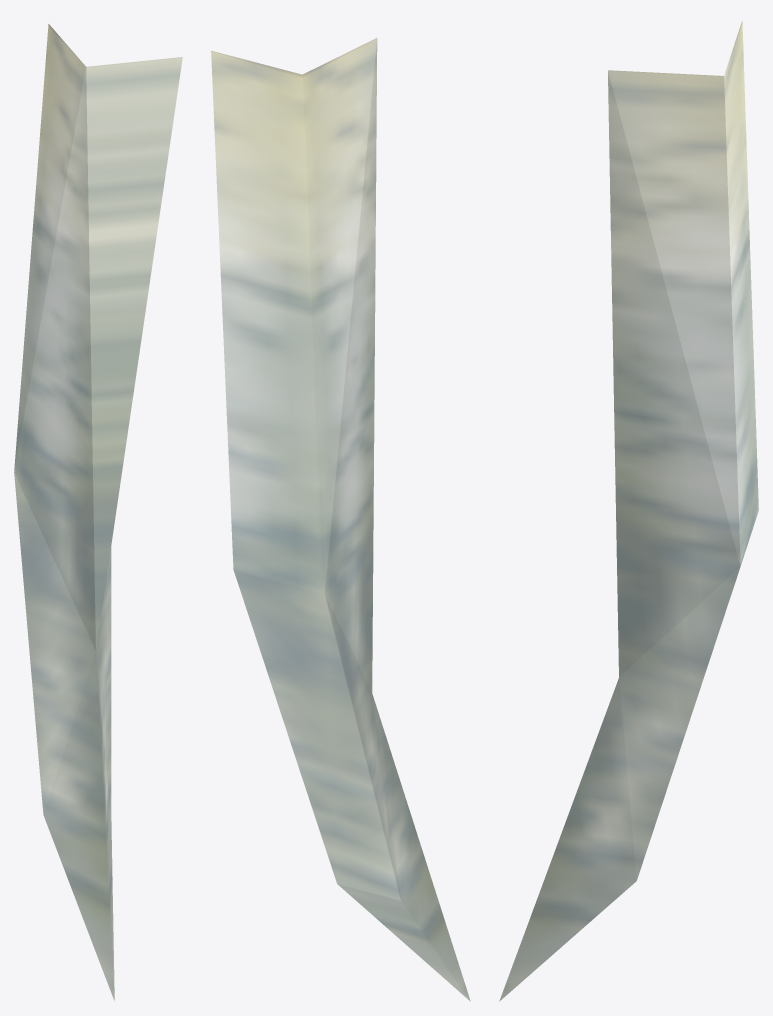
Rendered from rib13.glb.
The picture shows the model from 3 angles, left to right: view 1: azimuth 30°, elevation 25°; view 2: azimuth 150°, elevation 25°; view 3: azimuth 270°, elevation 25°; orthographic projection. The views are drawn at different scales.
Parts seen in each view (by area): view 1: rib13; view 2: rib13; view 3: rib13.
Part boxes in pixels (x1,y1,x2,y2): rib13: [14, 24, 182, 1000]; rib13: [211, 38, 470, 1001]; rib13: [499, 21, 758, 1001].
Size of the model in its own units: 380 by 2393 by 561.
1 material, 1 textured.
